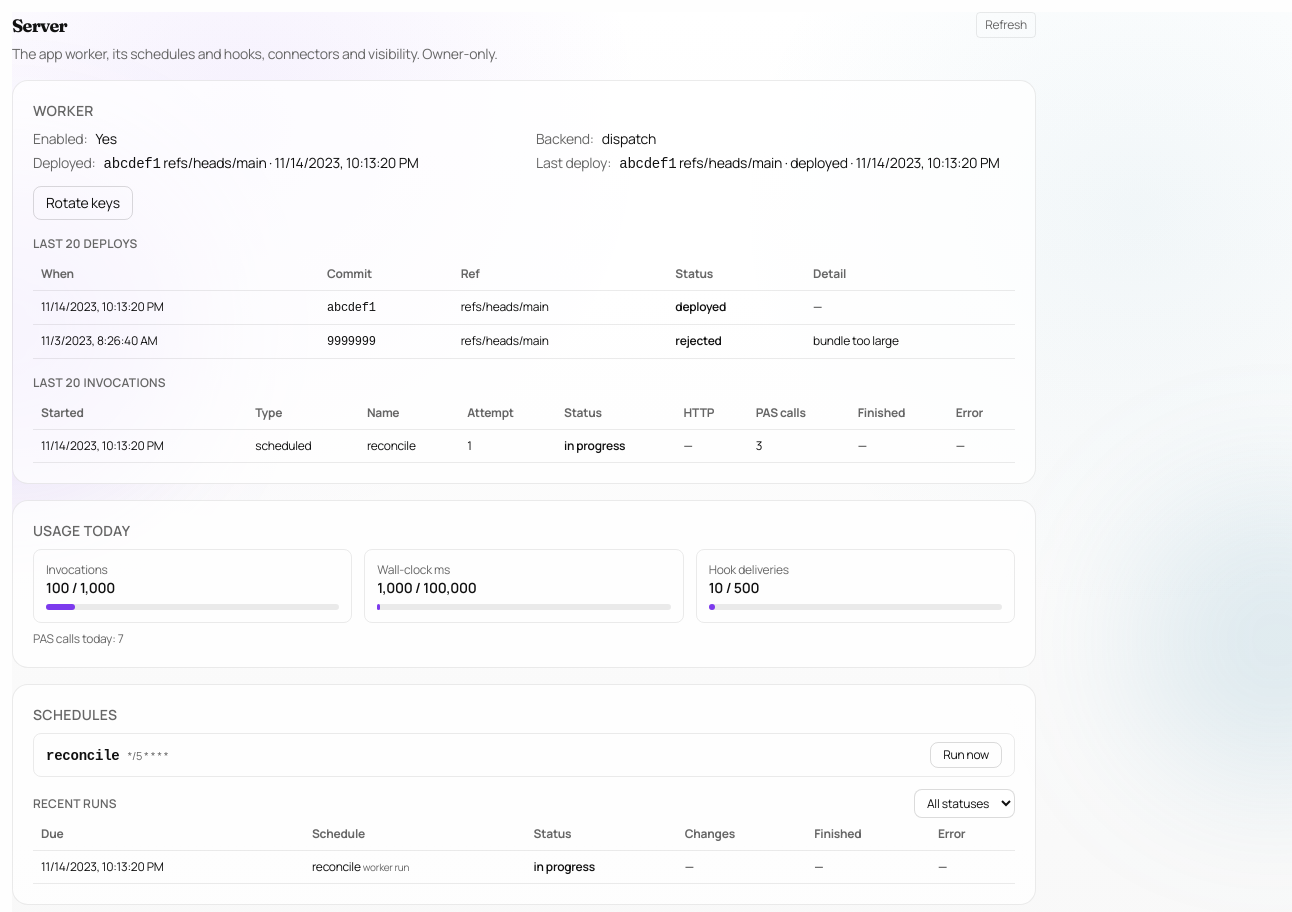
AppServer › explains a rate-limited run now (429)
Click the button "Run now" at (966, 755), box [930,742,1002,768]
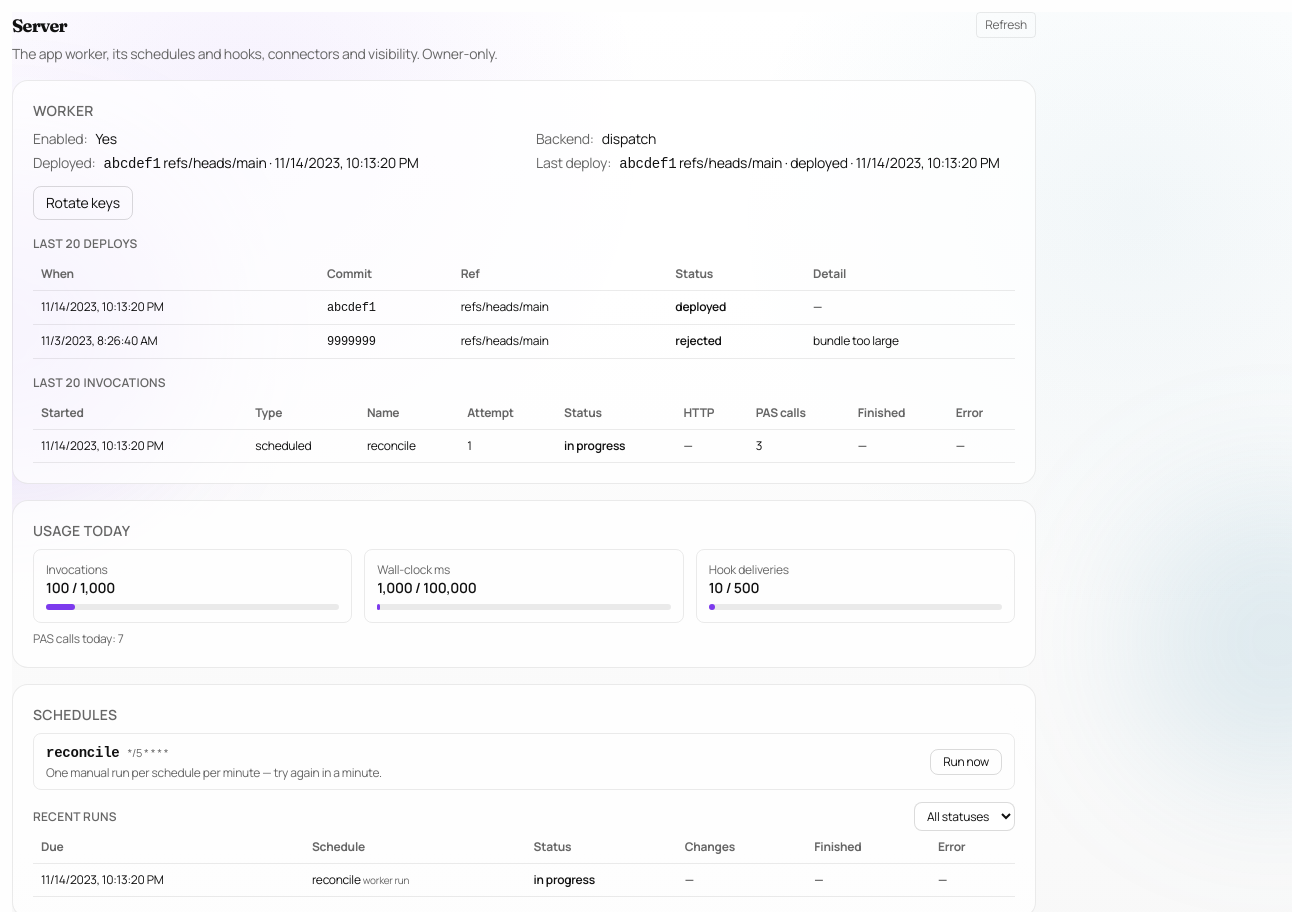
Result: the text "One manual run per schedule per minute — try again in a minute." is shown at [46,765,382,781]
